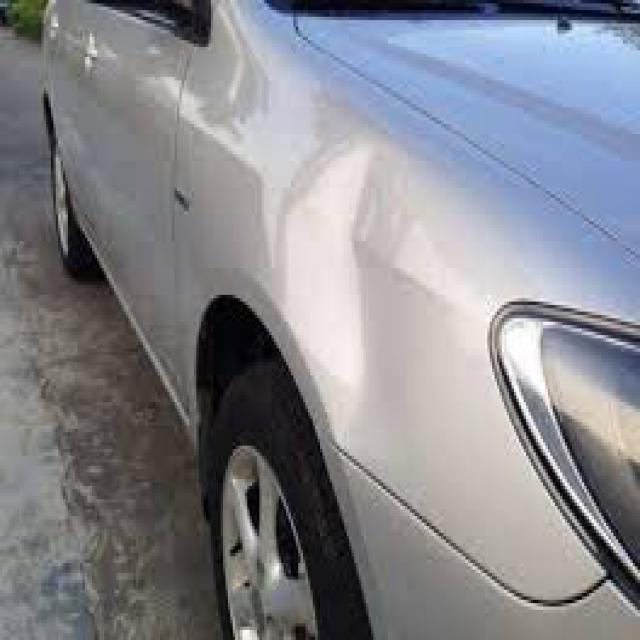fender-dent: (182, 54, 420, 540)
